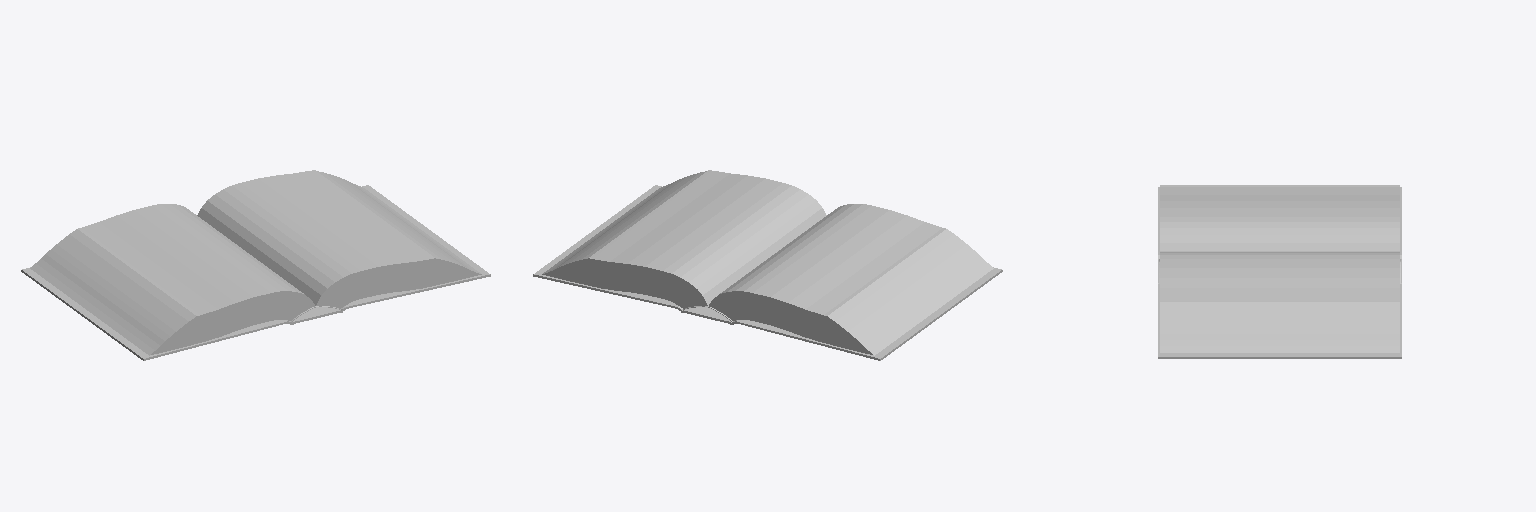
Rendered from book-opened.obj.
3 renders of one model, left to right at view 1: azimuth 30°, elevation 25°; view 2: azimuth 150°, elevation 25°; view 3: azimuth 270°, elevation 25°, orthographic.
Parts seen in each view (by area): view 1: 魔導書_mesh_魔導書; view 2: 魔導書_mesh_魔導書; view 3: 魔導書_mesh_魔導書.
Boxes of the visible parts, <box> form: 魔導書_mesh_魔導書: <box>21,170,490,360</box>; 魔導書_mesh_魔導書: <box>533,170,1002,360</box>; 魔導書_mesh_魔導書: <box>1158,185,1401,358</box>.
Bounding box in the file's own units: 1.75 × 0.1803 × 1.07.